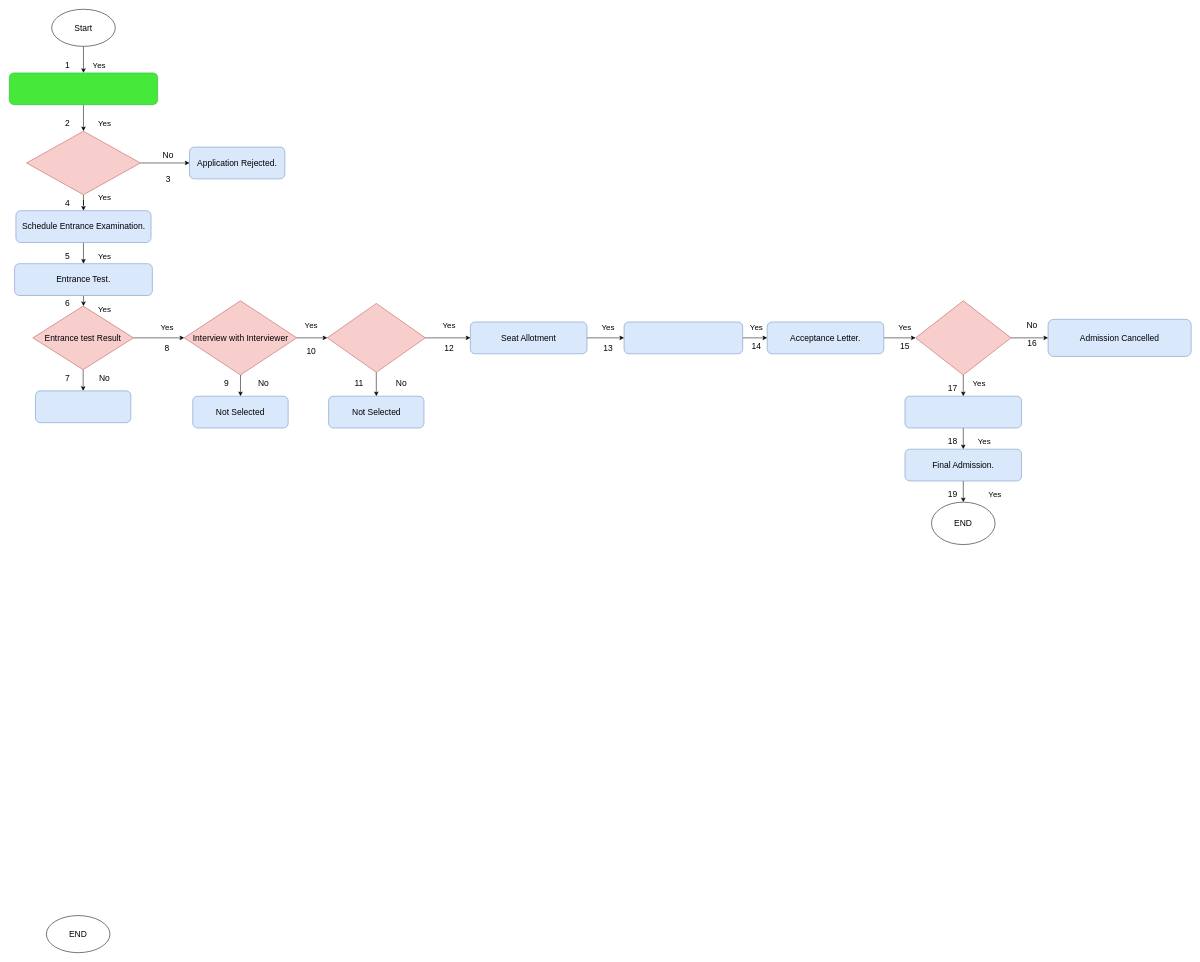
Some shapes in this 1200 by 962 pixel diagram are drawn without their labels. The centre of each missing label's shape, as x and y in pixels:
"Check Eligibility criteria." belongs at point (83, 163).
"Document verification." belongs at point (963, 412).
"Failed" belongs at point (83, 406).
"Merit List Preparation." belongs at point (376, 337).
"Offer Letter." belongs at point (683, 337).
"Pay Admission Fee" belongs at point (963, 337).
"Receive Application" belongs at point (83, 88).
